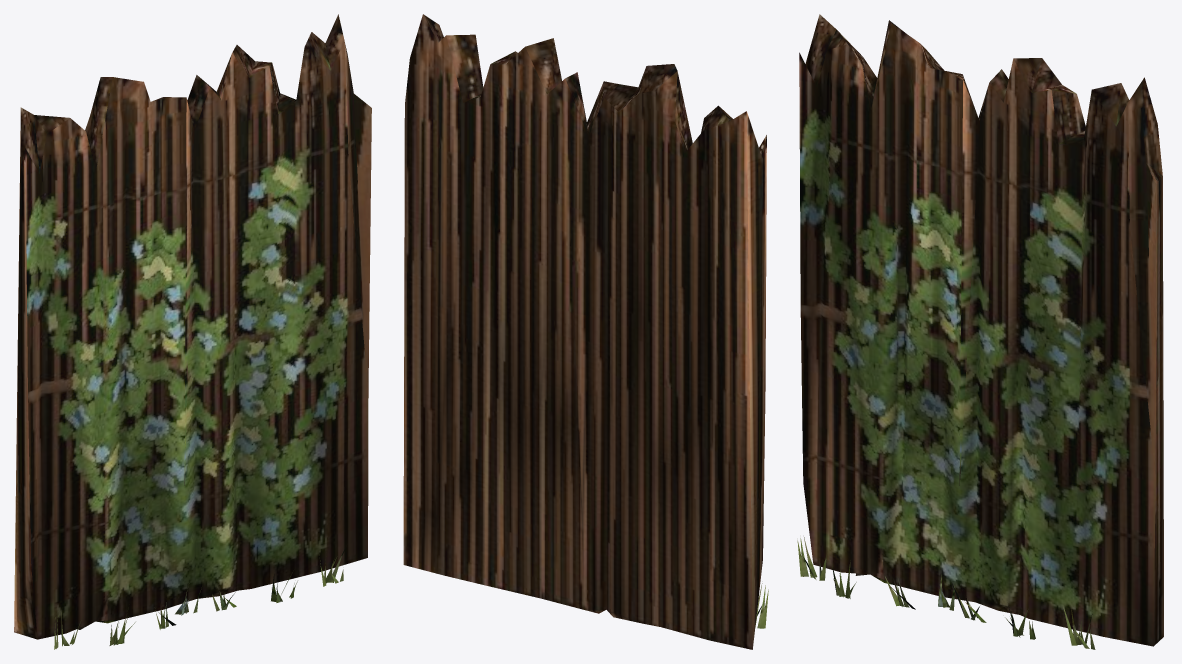
The model's file is fence_reed_flowers_far.glb.
3 views of the same model, side by side, from view 1: azimuth 30°, elevation 25°; view 2: azimuth 150°, elevation 25°; view 3: azimuth 330°, elevation 25° (orthographic). The views are drawn at different scales.
Visible parts, largest first — view 1: fence_reed_flowers_lod1; view 2: fence_reed_flowers_lod1; view 3: fence_reed_flowers_lod1.
Part boxes in pixels (left/top/right/bottom): fence_reed_flowers_lod1: left=14, top=14, right=371, bottom=649; fence_reed_flowers_lod1: left=403, top=14, right=768, bottom=649; fence_reed_flowers_lod1: left=797, top=14, right=1163, bottom=649.
Bounding box in the file's own units: 1 × 1.5 × 0.2081.
Materials: 1 (1 with a texture image).
